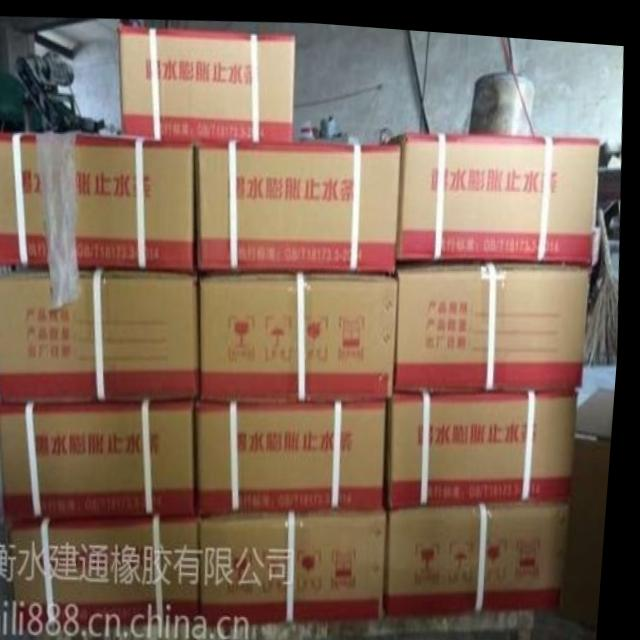box: (390, 126, 603, 257), (0, 268, 204, 403), (0, 131, 197, 269), (199, 135, 403, 268), (203, 268, 400, 397), (399, 255, 594, 385), (4, 395, 203, 521), (393, 380, 583, 502), (202, 395, 393, 512), (17, 513, 207, 630), (392, 493, 577, 610), (208, 508, 395, 623), (117, 24, 296, 136)
